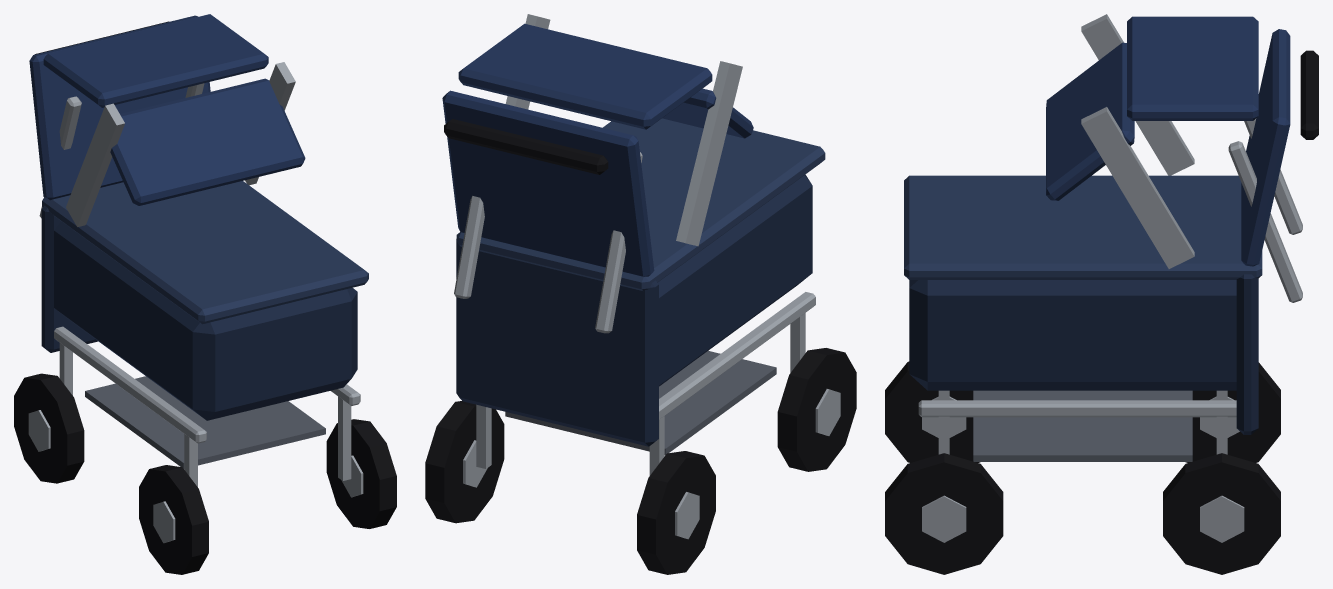
The model's file is pram.glb.
3 views of the same model, side by side, from view 1: azimuth 30°, elevation 25°; view 2: azimuth 150°, elevation 25°; view 3: azimuth 270°, elevation 25° (orthographic). The views are drawn at different scales.
Parts seen in each view (by area): view 1: pram; view 2: pram; view 3: pram.
Boxes of the visible parts, x1,y1,x2,y2 form: pram: (14, 14, 396, 574); pram: (425, 14, 856, 574); pram: (885, 14, 1318, 574).
Size of the model in its own units: 0.735 by 1.38 by 1.19.
